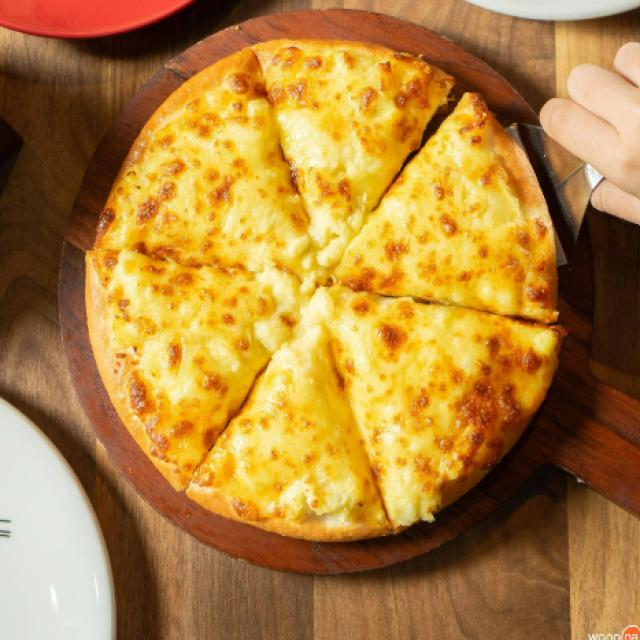cheese pizza: (247, 55, 455, 505)
